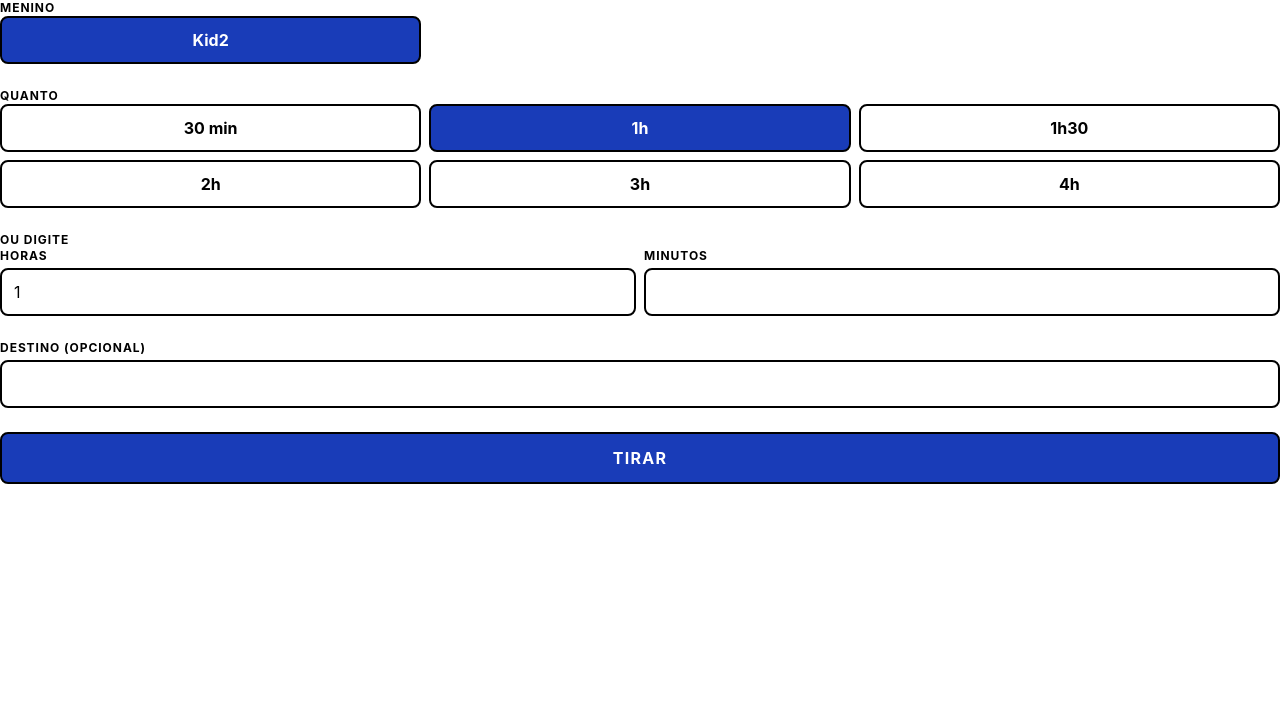
Scenario: the confirmation (D53) › does not claim nothing was saved when the write's answer is lost
Click the button "Tirar".
click(640, 458)  # box [0,432,1279,484]
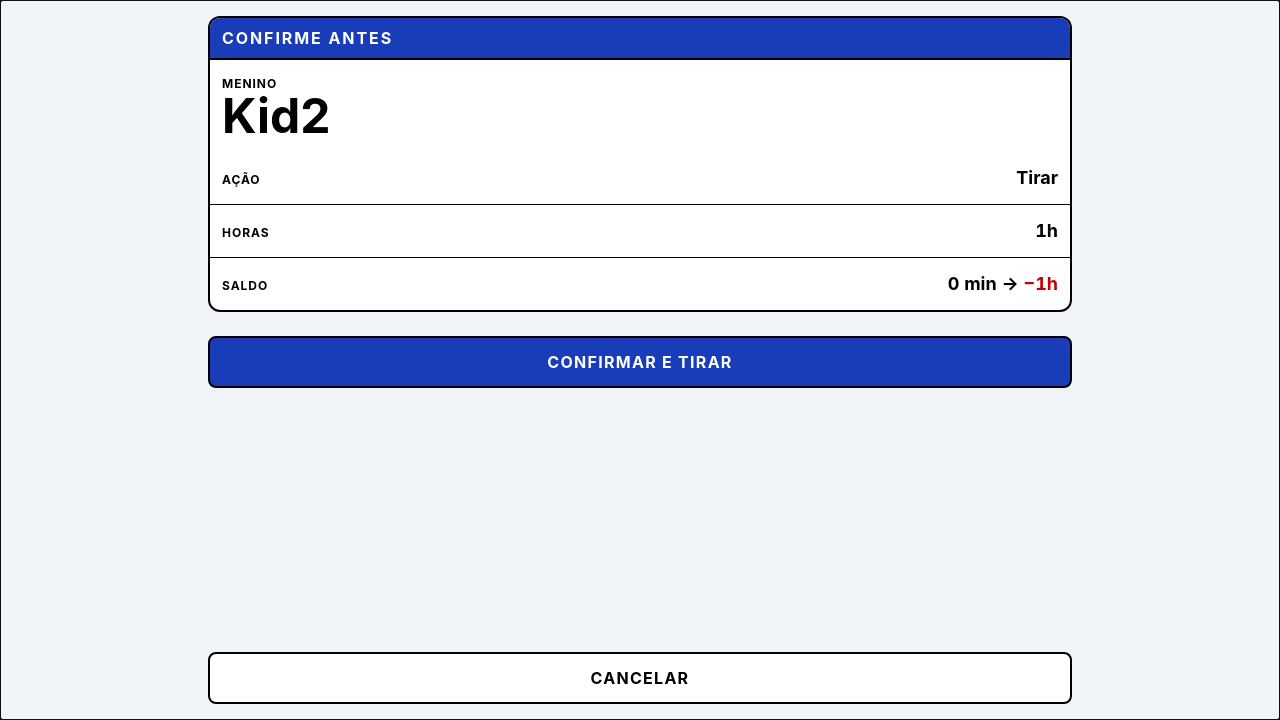
Click the button "Confirmar e tirar".
click(640, 362)  # box [208,336,1072,388]
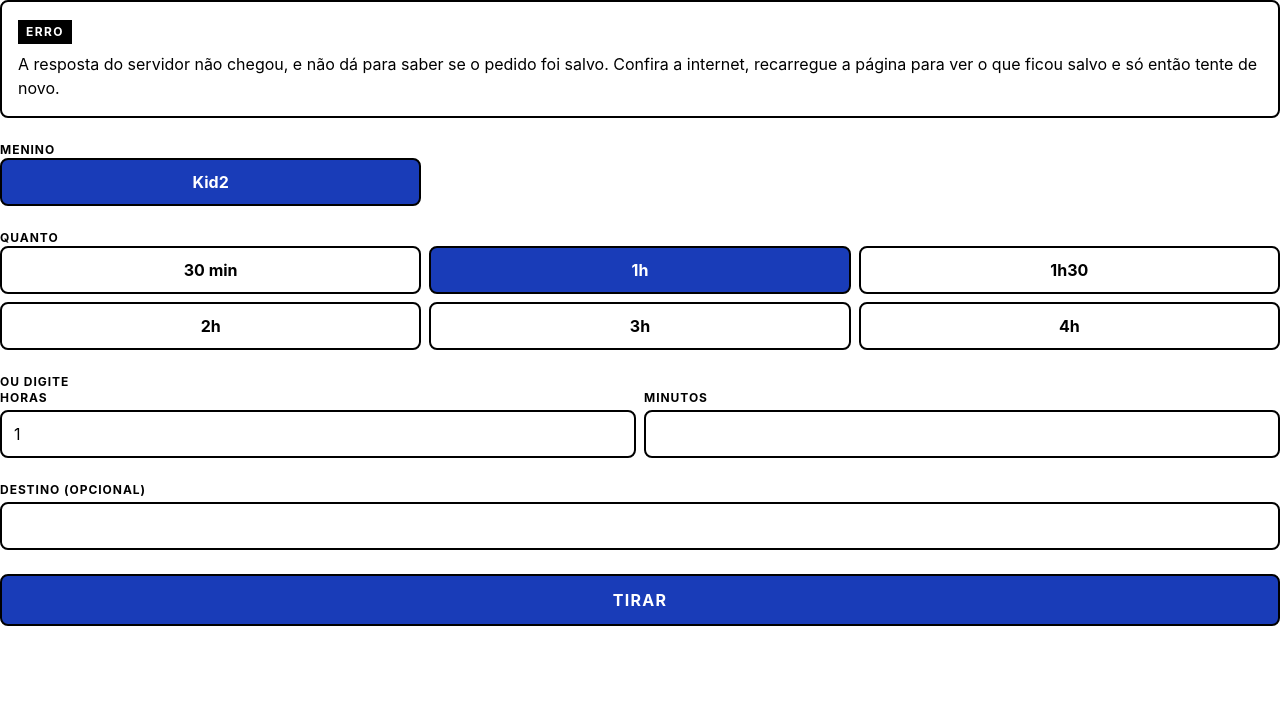
expect the dialog is gone: met
expect the text "A resposta do servidor não chegou, e não dá para saber se o pedido foi salvo. Confira a internet, recarregue a página para ver o que ficou salvo e só então tent" is shown: met, box [18,54,1257,98]
